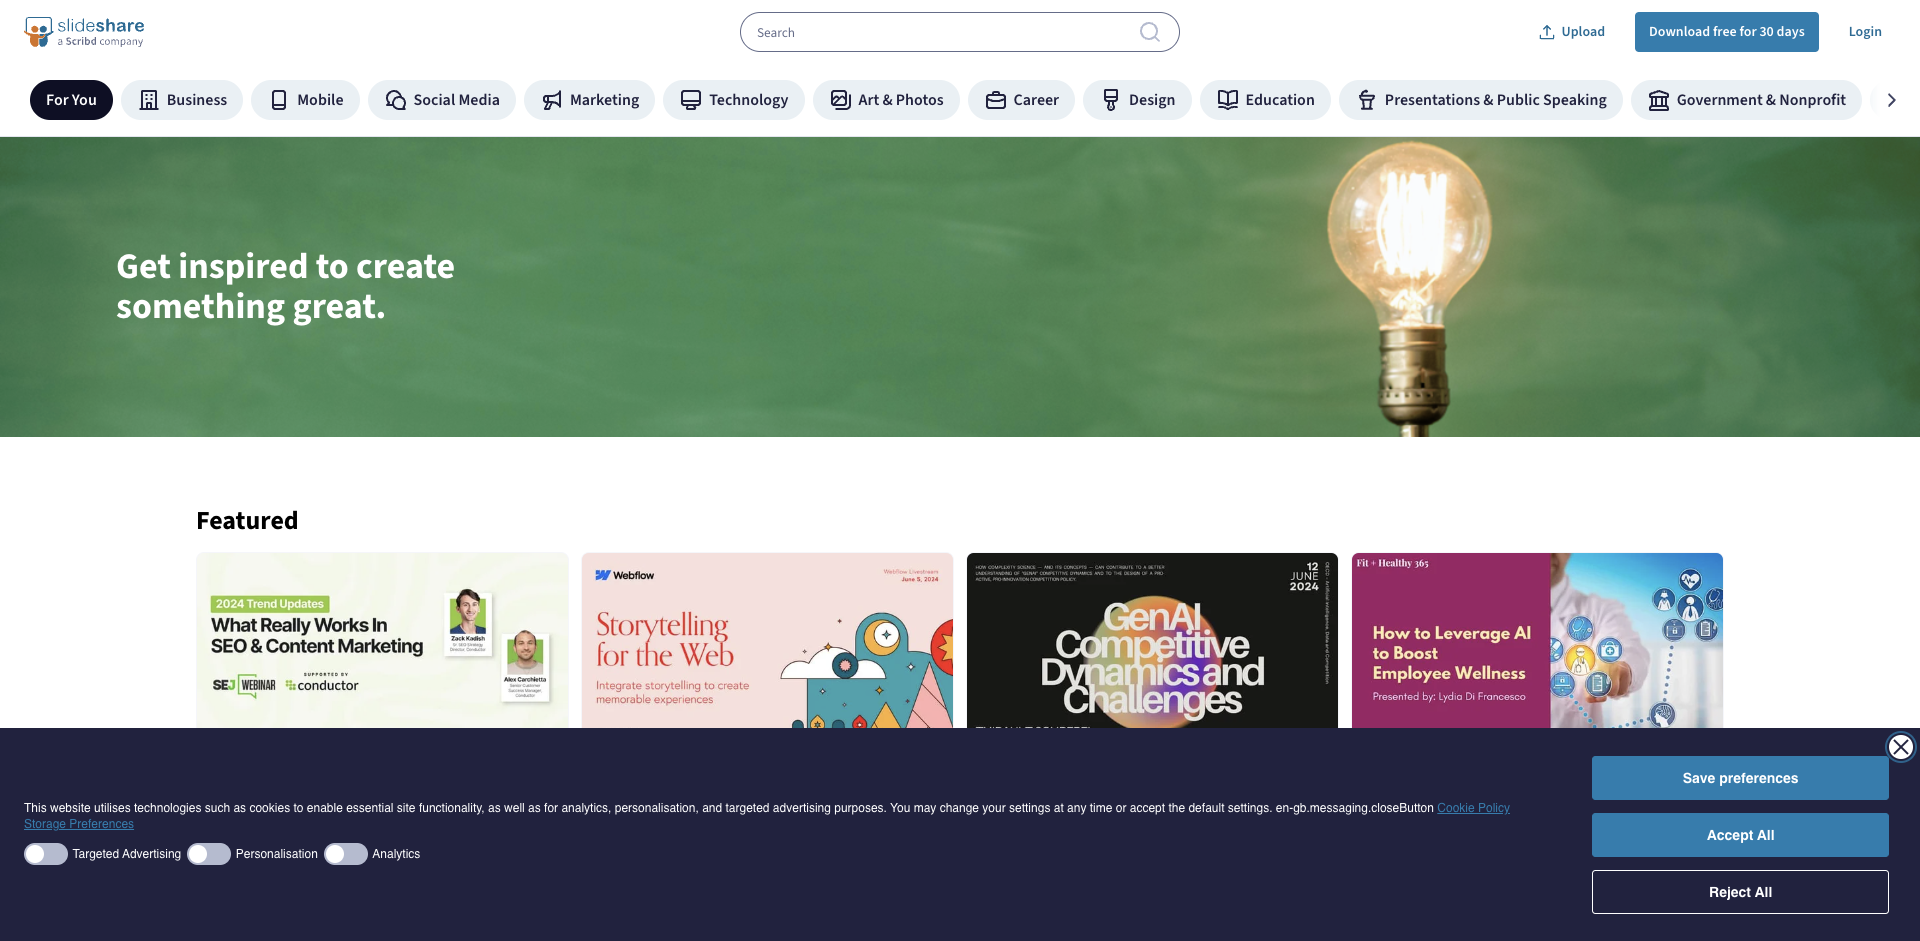button: (1586, 752, 1896, 916), (1592, 756, 1889, 800), (1592, 812, 1889, 856), (1592, 870, 1889, 914), (1635, 12, 1818, 51), (1522, 12, 1619, 51), (1834, 12, 1896, 51), (9, 80, 48, 120), (1872, 80, 1911, 120), (1134, 16, 1166, 48), (1889, 735, 1914, 758)
input: (740, 12, 1180, 51)
label: (24, 843, 187, 865), (187, 843, 323, 865), (323, 843, 426, 865)
link: (200, 556, 564, 876), (585, 556, 950, 876), (970, 556, 1335, 876), (1356, 556, 1720, 876), (24, 817, 1577, 832), (1338, 80, 1622, 120), (1631, 80, 1862, 120), (196, 821, 569, 842), (580, 821, 954, 842), (966, 821, 1340, 842), (1351, 821, 1724, 842), (367, 80, 516, 120), (813, 80, 960, 120), (664, 80, 804, 120), (524, 80, 655, 120), (1200, 80, 1331, 120), (121, 80, 244, 120), (251, 80, 360, 120), (967, 80, 1075, 120), (1084, 80, 1191, 120), (24, 17, 144, 47), (31, 80, 113, 120), (1870, 80, 1920, 120), (1438, 801, 1510, 816), (1671, 936, 1724, 941)
